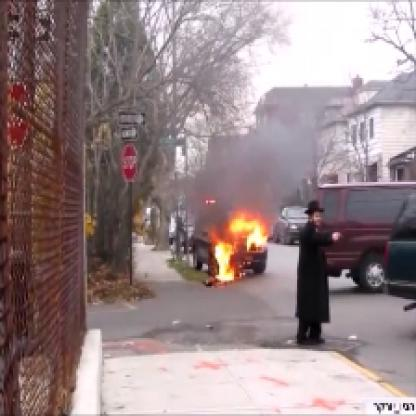Fire: (203, 193, 271, 292)
